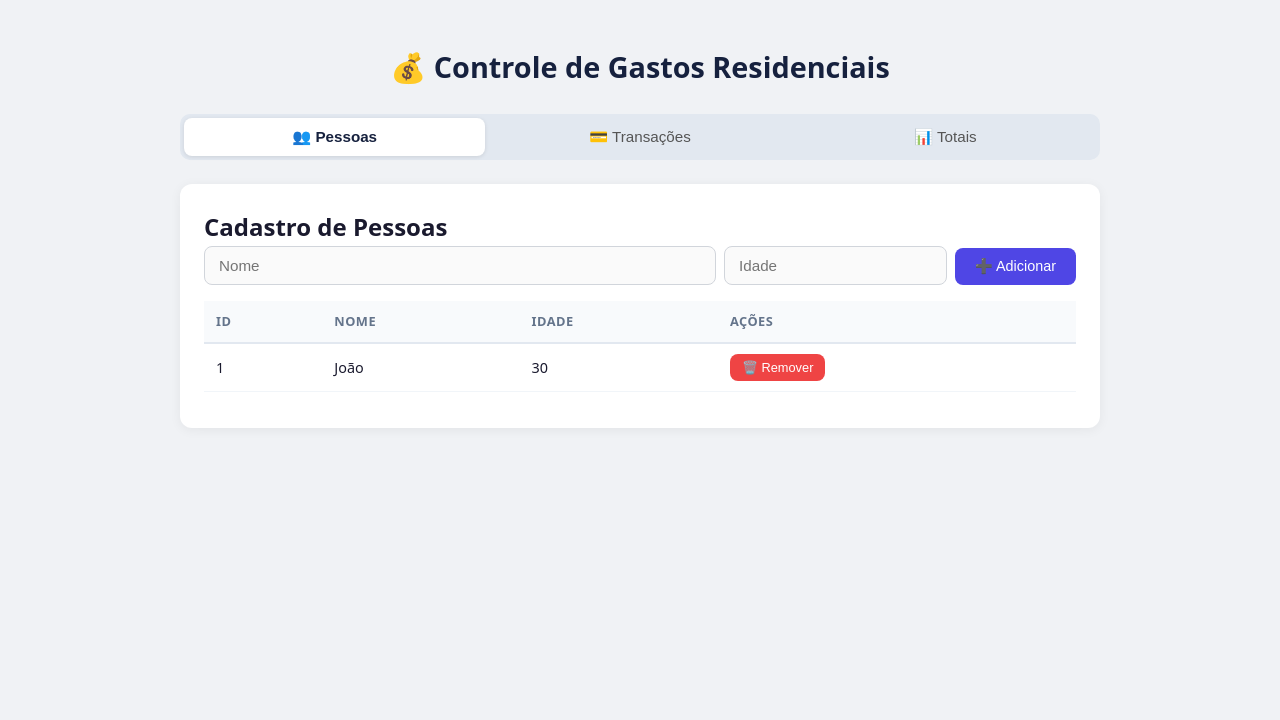
TransactionsTab — form submission › should delete a transaction after confirming in the modal
Click the button "💳 Transações" at (640, 137), box [489,118,791,156]
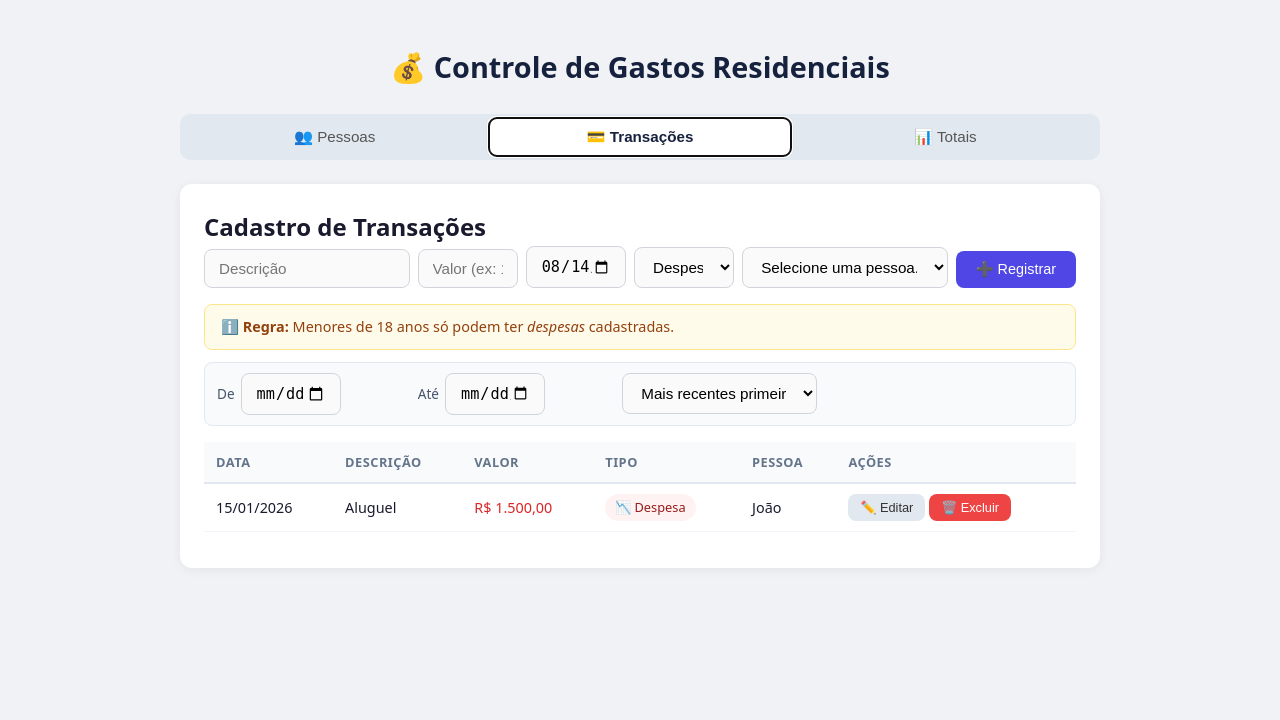
Expected: the button with aria-label "Excluir Aluguel" is shown
Click the button with aria-label "Excluir Aluguel" at (970, 508), box [929,494,1011,521]
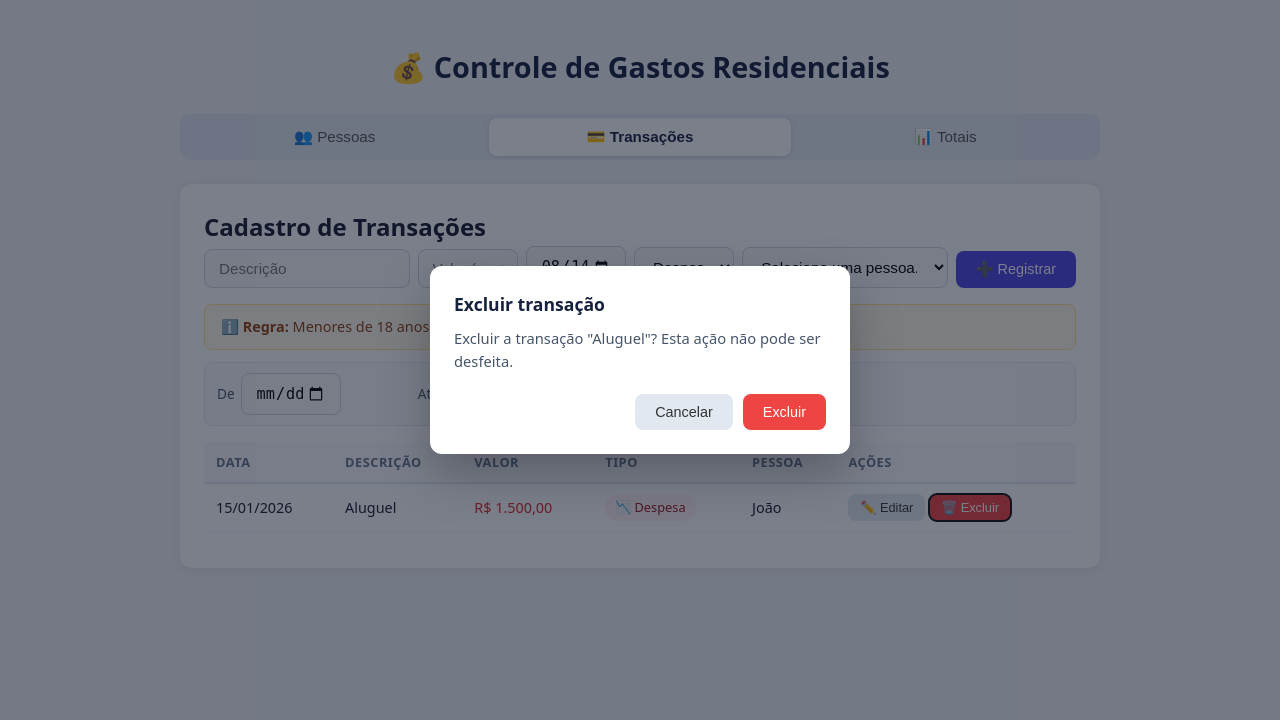
Expected: the dialog is shown, [430,266,850,454]
Click the button "Excluir" at (784, 412), box [743,394,826,430]
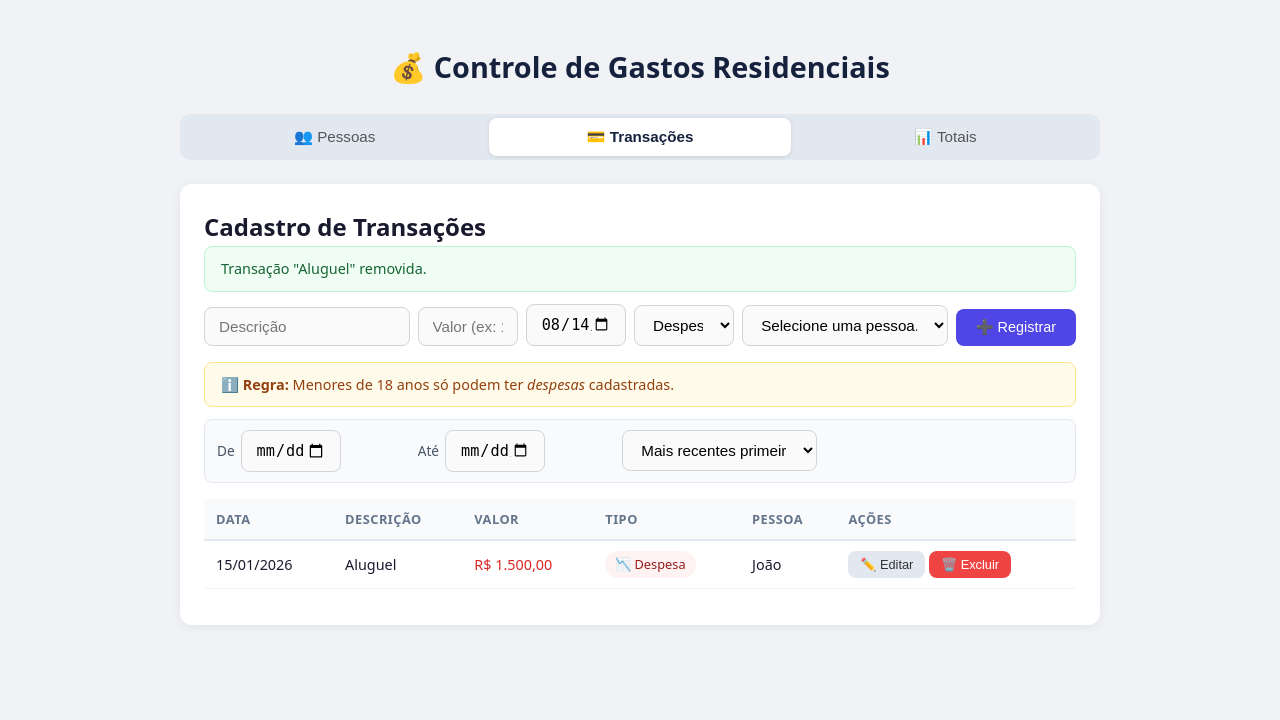
Expected: the text "Transação \"Aluguel\" removida." is shown, [204,246,1076,292]
